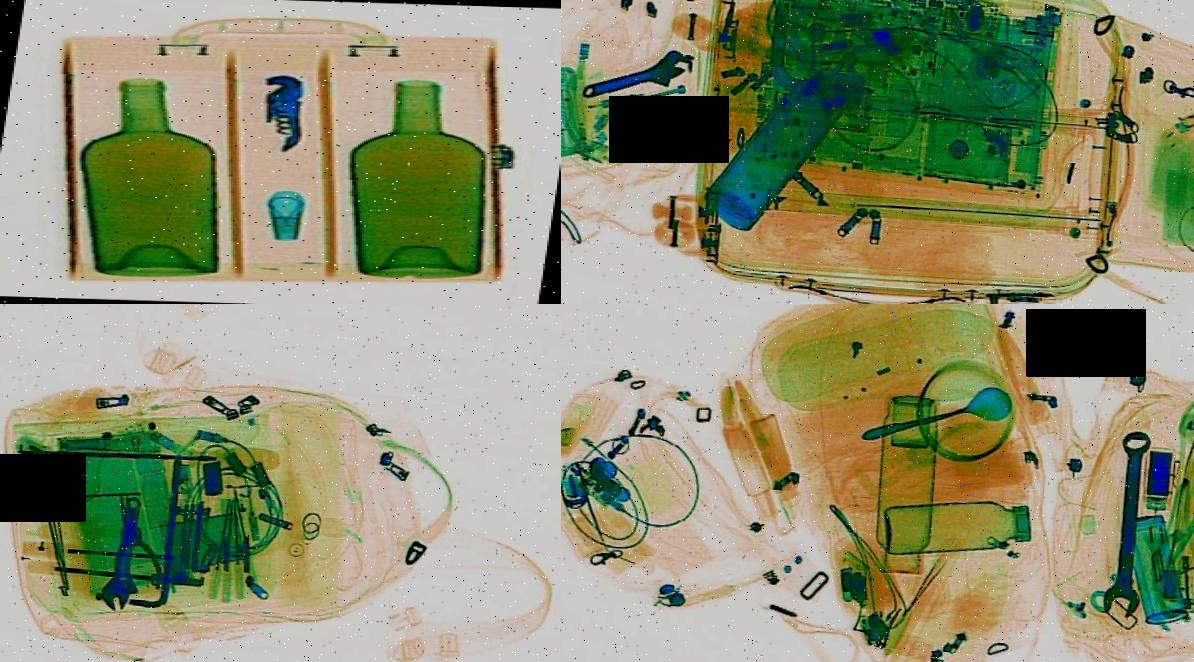Knife: (254, 72, 325, 153)
Wrench: (561, 38, 712, 112), (1104, 427, 1157, 620), (96, 492, 152, 611)
